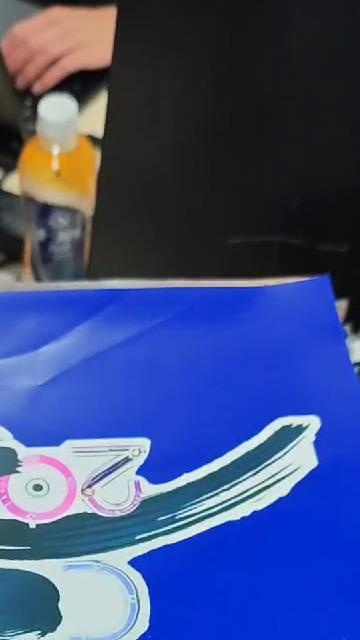B_R1: (0, 390, 313, 640)
